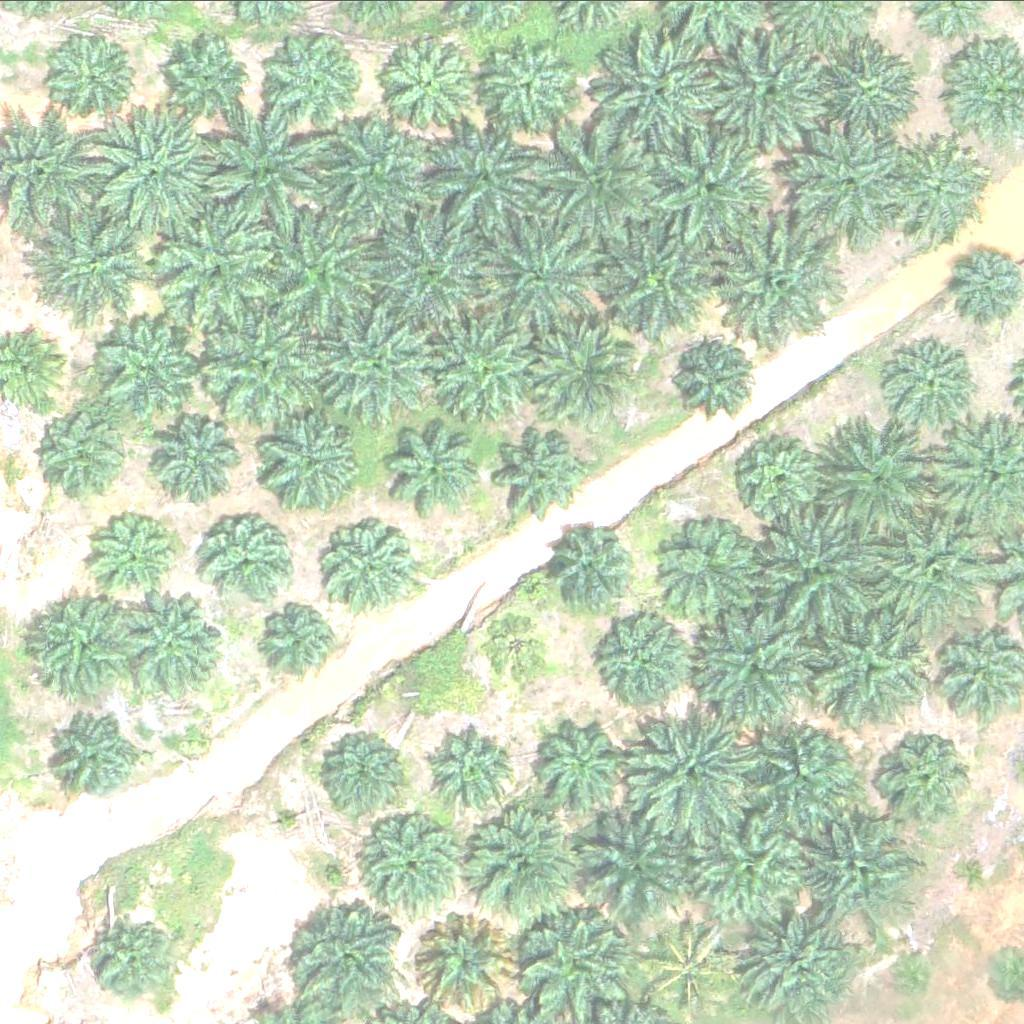Kelapa_Sawit: (595, 18, 721, 143), (711, 33, 837, 158), (420, 118, 546, 243), (91, 110, 217, 235), (203, 109, 329, 234), (318, 105, 444, 230), (26, 196, 152, 321), (151, 201, 277, 326), (254, 208, 380, 333), (367, 207, 493, 332), (475, 211, 601, 336), (713, 222, 839, 347), (200, 299, 326, 424), (280, 895, 406, 1020), (456, 799, 582, 924), (687, 803, 813, 928), (734, 896, 860, 1021), (630, 715, 756, 840), (749, 706, 875, 831), (694, 610, 820, 735), (809, 608, 935, 733), (752, 509, 878, 634), (869, 508, 995, 633), (809, 413, 935, 538), (876, 121, 1002, 246), (777, 124, 903, 249), (793, 810, 919, 935), (646, 124, 771, 249), (534, 116, 659, 241), (572, 800, 697, 925), (597, 229, 710, 342), (409, 905, 522, 1018), (662, 515, 775, 628), (359, 805, 473, 917), (524, 314, 637, 426), (417, 310, 530, 422), (316, 310, 429, 422), (268, 29, 369, 129), (378, 34, 479, 134), (478, 37, 579, 137), (98, 314, 199, 414), (379, 418, 480, 518), (486, 419, 587, 519), (122, 591, 223, 691), (29, 595, 130, 695), (524, 716, 625, 816), (599, 613, 700, 713), (876, 727, 977, 827), (39, 27, 139, 127), (260, 413, 360, 513), (878, 336, 978, 436), (817, 47, 917, 147), (737, 435, 825, 523), (39, 404, 127, 492), (94, 511, 182, 599), (207, 514, 295, 602), (330, 522, 418, 610), (54, 712, 142, 800), (541, 524, 630, 611), (95, 914, 183, 1001), (254, 595, 342, 682), (168, 35, 256, 122), (158, 411, 246, 498), (424, 721, 512, 808), (319, 726, 407, 813), (946, 247, 1022, 322), (477, 607, 553, 682), (680, 341, 755, 416), (885, 952, 935, 1002), (947, 851, 985, 888)
